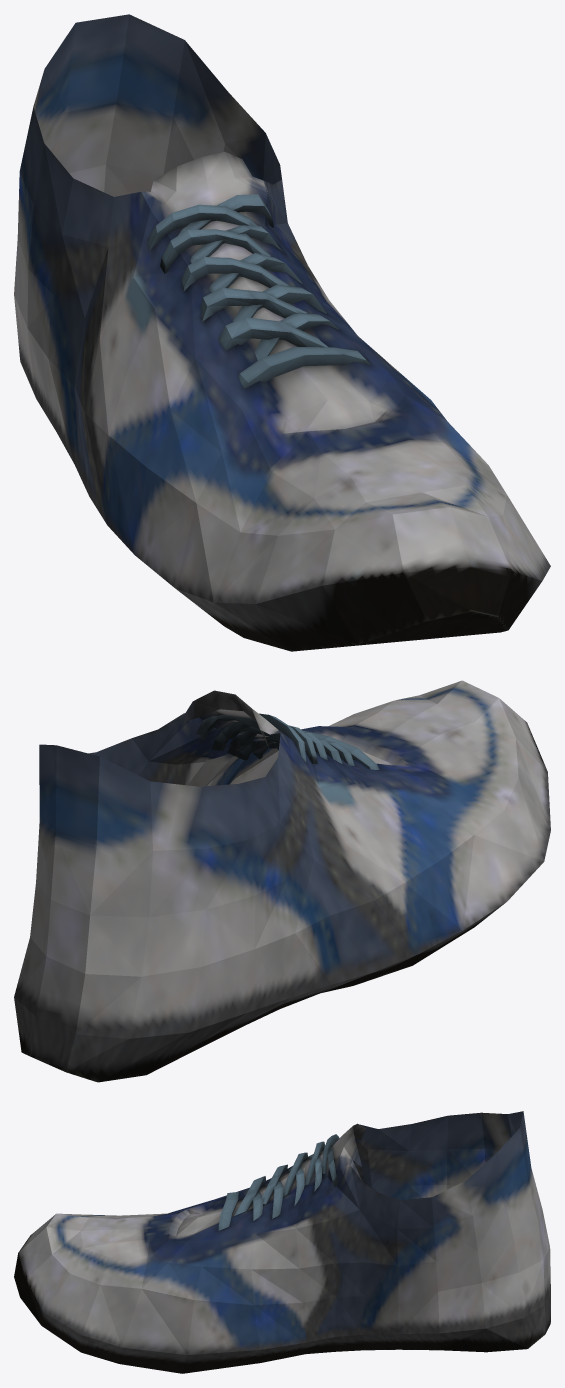
File: sapapto.fbx
3 views of the same model, one above another, from view 1: azimuth 30°, elevation 25°; view 2: azimuth 150°, elevation 25°; view 3: azimuth 270°, elevation 25° (orthographic). The views are drawn at different scales.
Parts seen in each view (by area): view 1: Shoes; view 2: Shoes; view 3: Shoes.
Boxes of the visible parts, box(x1,y1,x2,y2) form: Shoes: box(14, 14, 550, 651); Shoes: box(14, 680, 550, 1082); Shoes: box(14, 1111, 550, 1373).
Size of the model in its own units: 8.88 by 10.67 by 21.7.
Materials: 1 (1 with a texture image).
